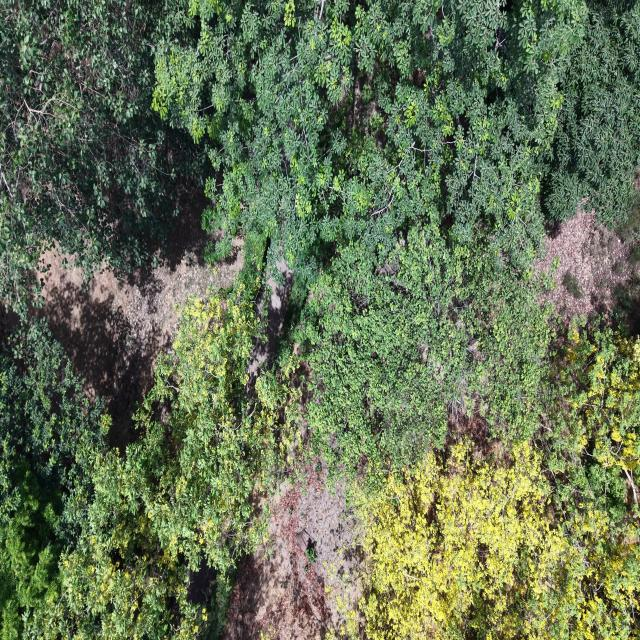DRY_AREA: (33, 219, 243, 448), (36, 218, 242, 447), (34, 228, 243, 450), (34, 227, 242, 449), (223, 452, 360, 639), (223, 460, 360, 639), (225, 470, 360, 639), (224, 486, 329, 639), (535, 203, 639, 325), (248, 261, 293, 386), (0, 307, 19, 341)
VEGETATION_TREE: (0, 0, 639, 639), (0, 0, 638, 307), (154, 0, 639, 288), (153, 0, 587, 288), (0, 284, 297, 639), (39, 286, 296, 639), (361, 326, 639, 638), (296, 224, 551, 474), (0, 0, 199, 314), (361, 443, 639, 639), (362, 443, 567, 639), (0, 322, 108, 639), (542, 2, 639, 236), (543, 324, 639, 523)
